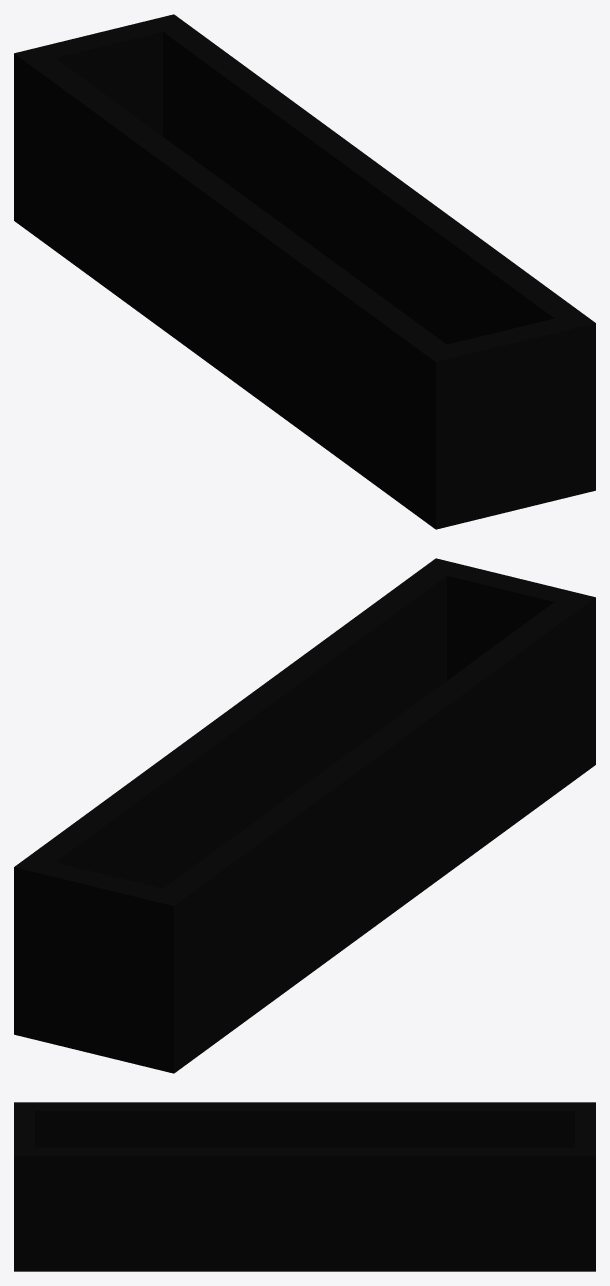
3 renders of one model, top to bottom at view 1: azimuth 30°, elevation 25°; view 2: azimuth 150°, elevation 25°; view 3: azimuth 270°, elevation 25°, orthographic. The views are drawn at different scales.
Parts seen in each view (by area): view 1: Box_122x557x122; view 2: Box_122x557x122; view 3: Box_122x557x122.
Boxes of the visible parts, left/top/right/bottom form: Box_122x557x122: left=14, top=14, right=595, bottom=529; Box_122x557x122: left=14, top=558, right=595, bottom=1073; Box_122x557x122: left=14, top=1102, right=595, bottom=1271.
Size of the model in its own units: 0.122 by 0.122 by 0.557.
Materials: 1 (1 with a texture image).
